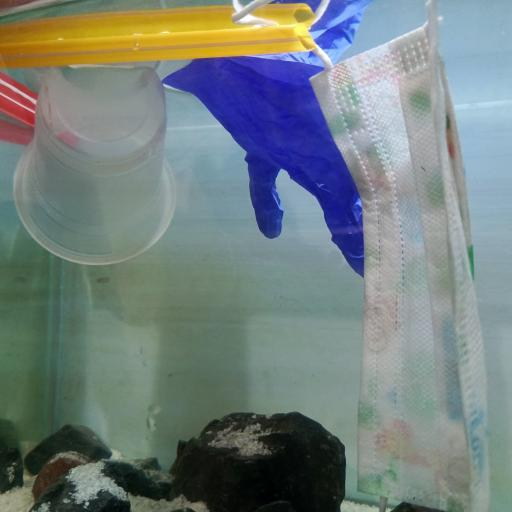glove: (166, 53, 366, 281)
mask: (306, 4, 493, 512)
plastic_cup: (10, 63, 180, 266)
plastic_straw: (0, 24, 316, 62), (5, 4, 315, 33), (2, 77, 81, 148)
